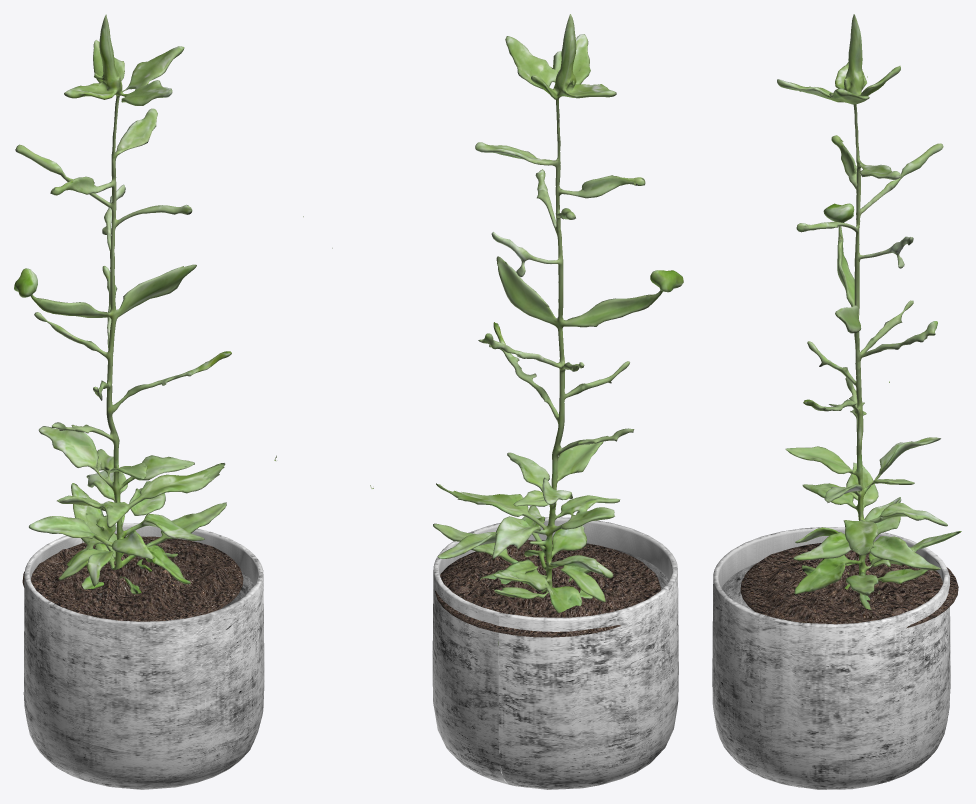
The model's file is King of bitters.glb.
3 views of the same model, side by side, from view 1: azimuth 30°, elevation 25°; view 2: azimuth 150°, elevation 25°; view 3: azimuth 270°, elevation 25° (orthographic). The views are drawn at different scales.
Parts seen in each view (by area): view 1: G-AUL10_0, Mesh_0.011; view 2: G-AUL10_0, Mesh_0.011; view 3: G-AUL10_0, Mesh_0.011.
Part boxes in pixels (x1=…): G-AUL10_0: x1=22, y1=523, x2=264, y2=789; Mesh_0.011: x1=14, y1=14, x2=303, y2=594; G-AUL10_0: x1=432, y1=517, x2=678, y2=789; Mesh_0.011: x1=332, y1=14, x2=683, y2=645; G-AUL10_0: x1=712, y1=527, x2=958, y2=789; Mesh_0.011: x1=777, y1=14, x2=961, y2=609.
Size of the model in its own units: 1.02 by 2.3 by 0.7095.
3 materials, 3 textured.
